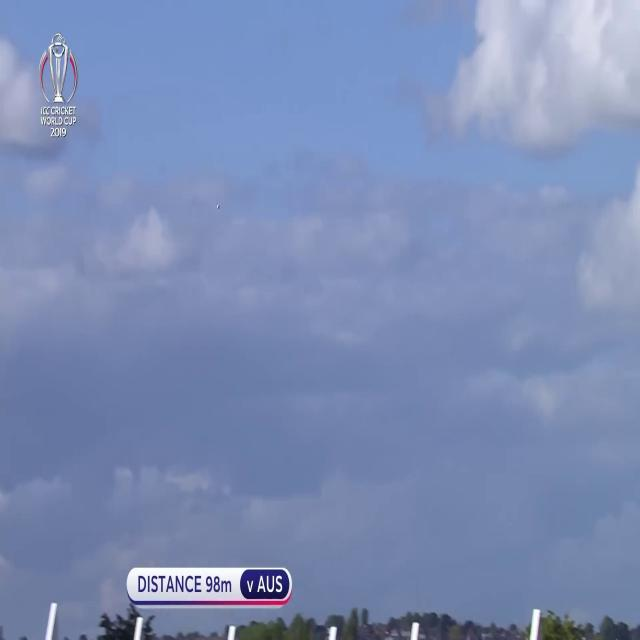ball: (214, 200, 223, 214)
